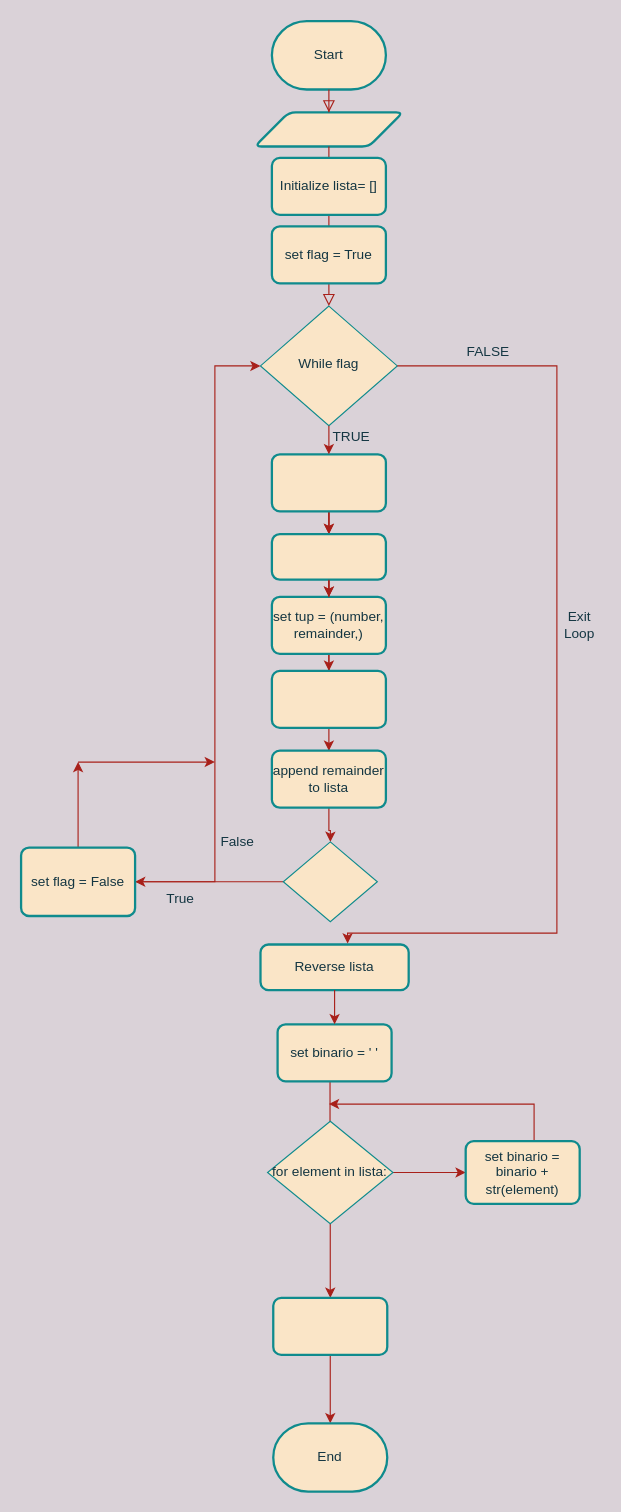
Image size: 621x1512. Some labels were removed from this diagram. The centre of each missing label's shape, as x and y in pixels:
"if numer = 0" belongs at (x=329, y=881).
"Pass dn" belongs at (x=328, y=129).
"print tup" belongs at (x=328, y=698).
"return binario as an integer" belongs at (x=330, y=1325).
"set dn = number" belongs at (x=328, y=556).
"set number,remainder = divmod(dn,2)" belongs at (x=328, y=482).
